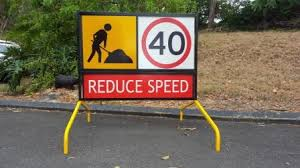sp40: (137, 17, 193, 69)
